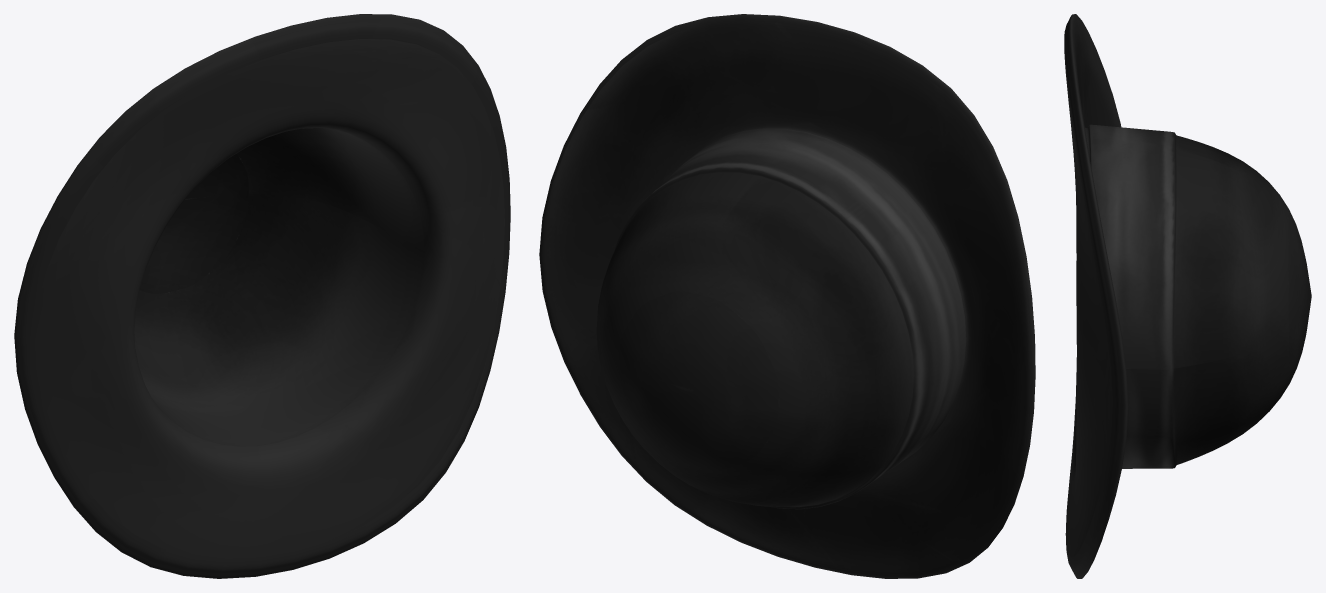
Rendered from bolohat.fbx.
3 views of the same model, side by side, from view 1: azimuth 30°, elevation 25°; view 2: azimuth 150°, elevation 25°; view 3: azimuth 270°, elevation 25° (orthographic). The views are drawn at different scales.
Visible parts, largest first — view 1: Bolo Hat; view 2: Bolo Hat; view 3: Bolo Hat.
Part boxes in pixels (x1,y1,x2,y2): Bolo Hat: (14, 14, 510, 578); Bolo Hat: (539, 14, 1035, 578); Bolo Hat: (1064, 14, 1311, 578).
Bounding box in the file's own units: 168 × 176 × 78.83.
